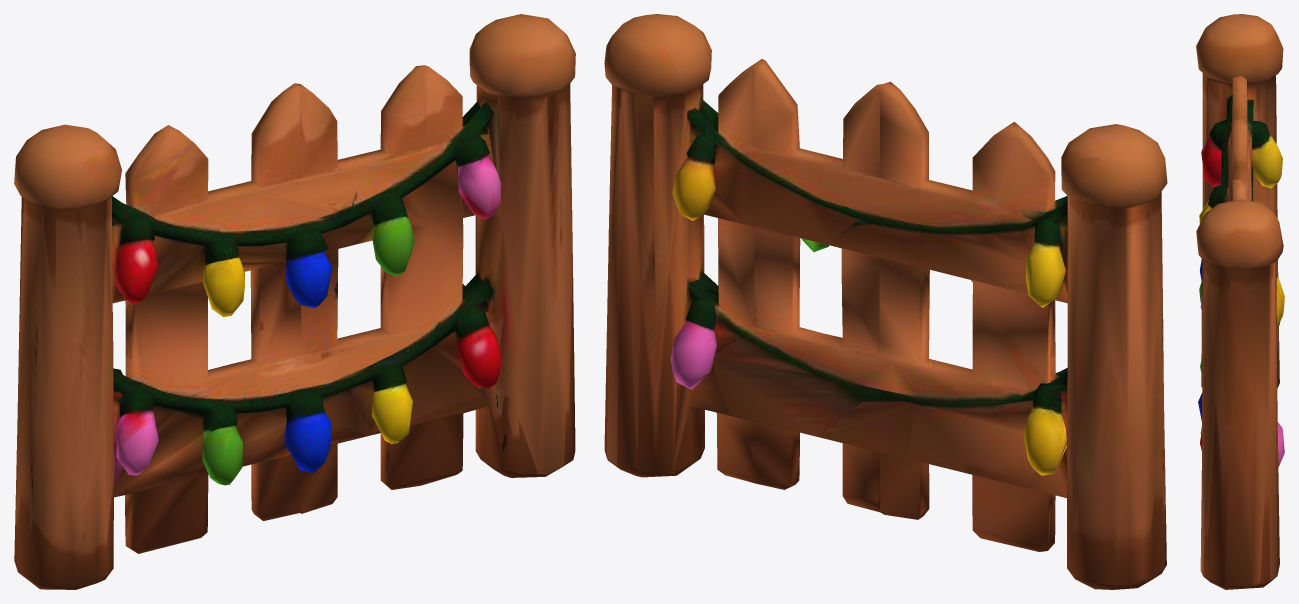
File: xmaslights.glb
3 views of the same model, side by side, from view 1: azimuth 30°, elevation 25°; view 2: azimuth 150°, elevation 25°; view 3: azimuth 270°, elevation 25° (orthographic). The views are drawn at different scales.
Visible parts, largest first — view 1: model; view 2: model; view 3: model.
Part boxes in pixels (x1=…): model: x1=14, y1=14, x2=575, y2=589; model: x1=604, y1=14, x2=1167, y2=589; model: x1=1196, y1=14, x2=1284, y2=589.
Size of the model in its own units: 1.89 by 1.47 by 0.3188.
Materials: 1 (1 with a texture image).
